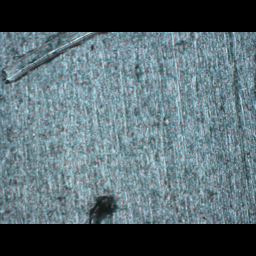d: (1, 32, 114, 87), (85, 192, 122, 224)
